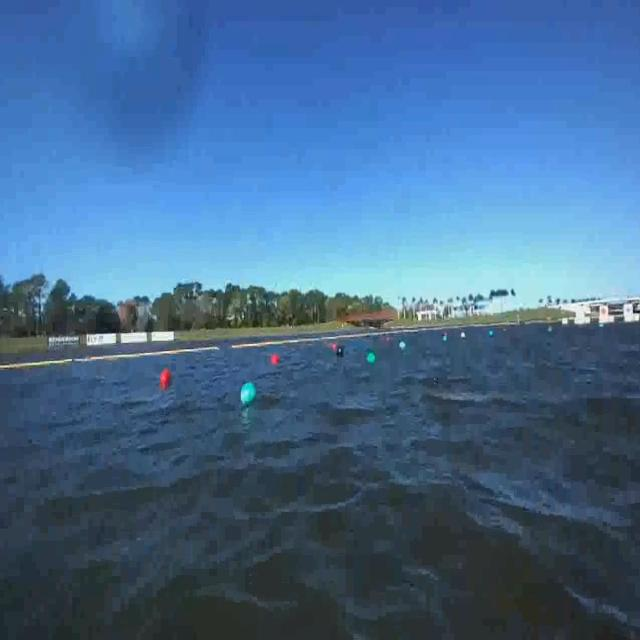green-buoy: (238, 380, 255, 403), (366, 351, 375, 364)
red-buoy: (272, 354, 280, 366)
red-column-buoy: (160, 368, 172, 390)
